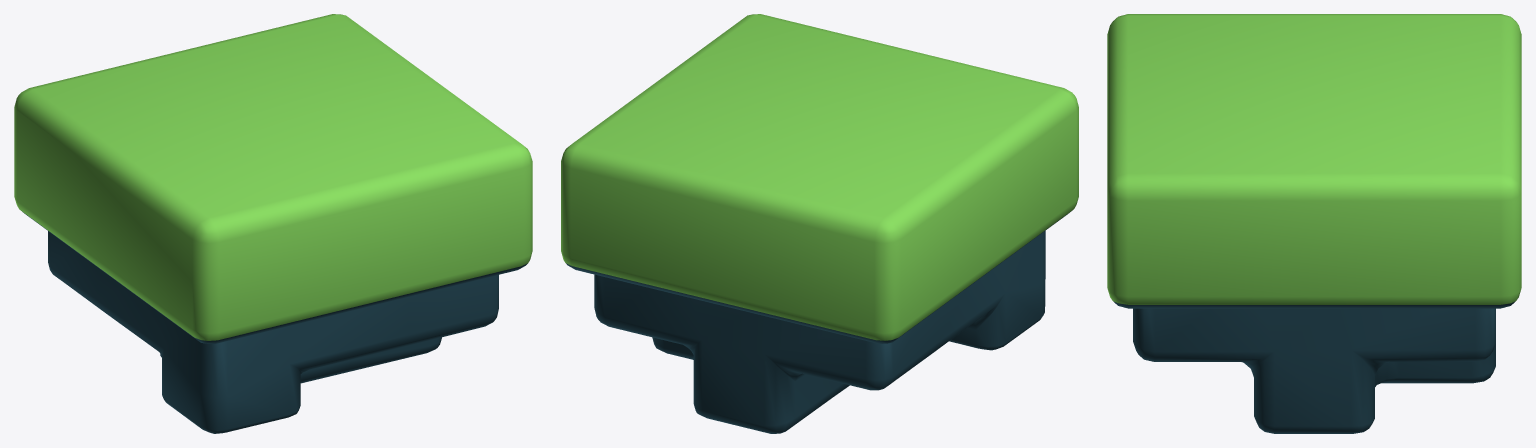
The model's file is GroundBlock.fbx.
3 renders of one model, left to right at view 1: azimuth 30°, elevation 25°; view 2: azimuth 150°, elevation 25°; view 3: azimuth 270°, elevation 25°, orthographic. The views are drawn at different scales.
Parts seen in each view (by area): view 1: GroundBlock; view 2: GroundBlock; view 3: GroundBlock.
Part boxes in pixels (left/top/right/bottom): GroundBlock: left=14, top=14, right=532, bottom=433; GroundBlock: left=561, top=14, right=1078, bottom=433; GroundBlock: left=1107, top=14, right=1521, bottom=433.
Size of the model in its own units: 200 by 143 by 200.
